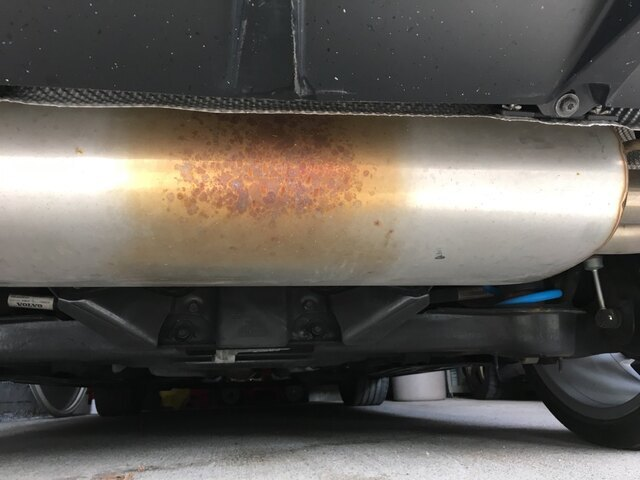Low: (171, 106, 381, 232)
